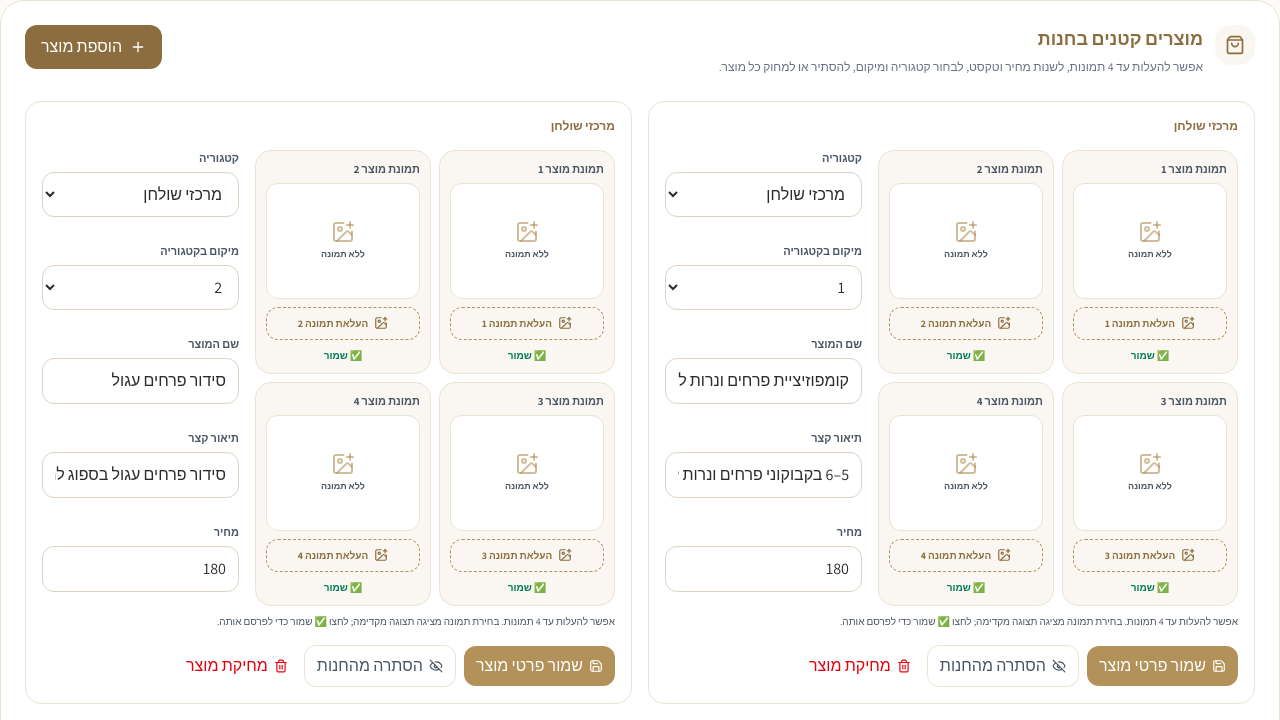
Test: ProductManager › validates required fields and supports cancelling a new product
Click the button "הוספת מוצר" at (94, 47), box [25,25,162,69]
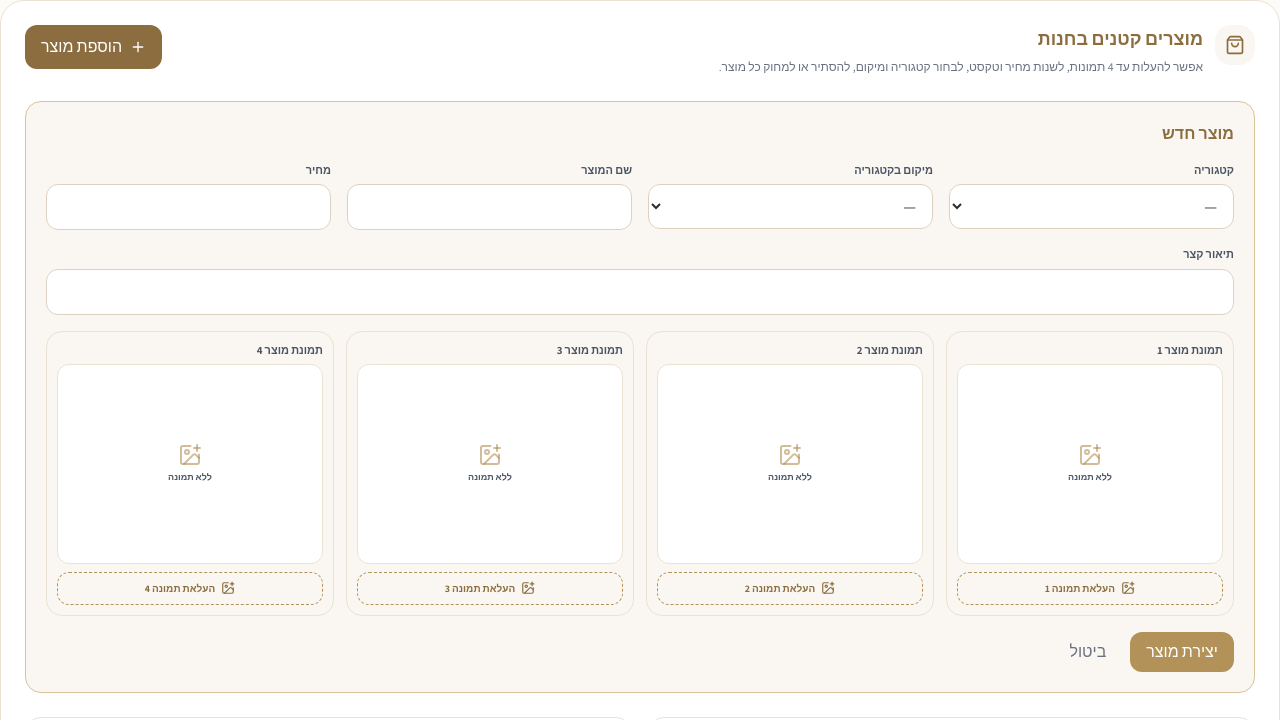
Click the button "יצירת מוצר" at (1182, 652), box [1130,632,1234,672]
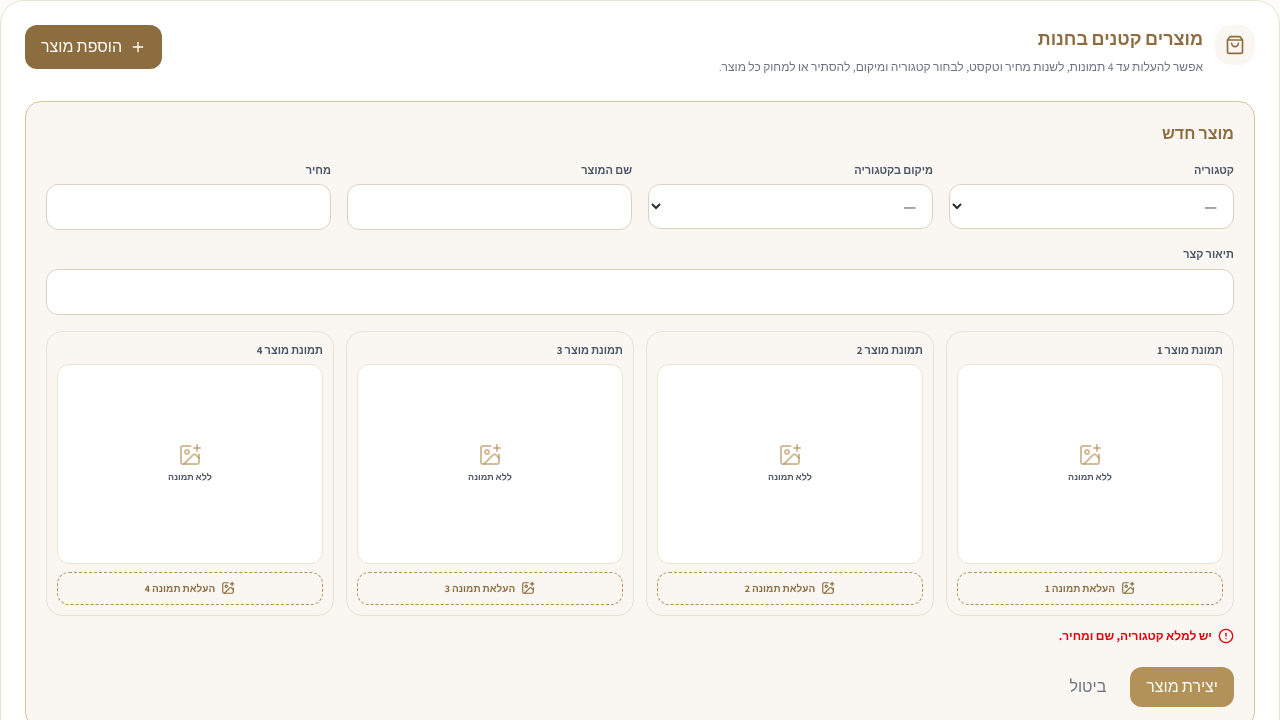
Check: the message reads "יש למלא קטגוריה, שם ומחיר.", box [1059,628,1212,642]
Click the button "ביטול" at (1088, 686), box [1053,666,1122,706]
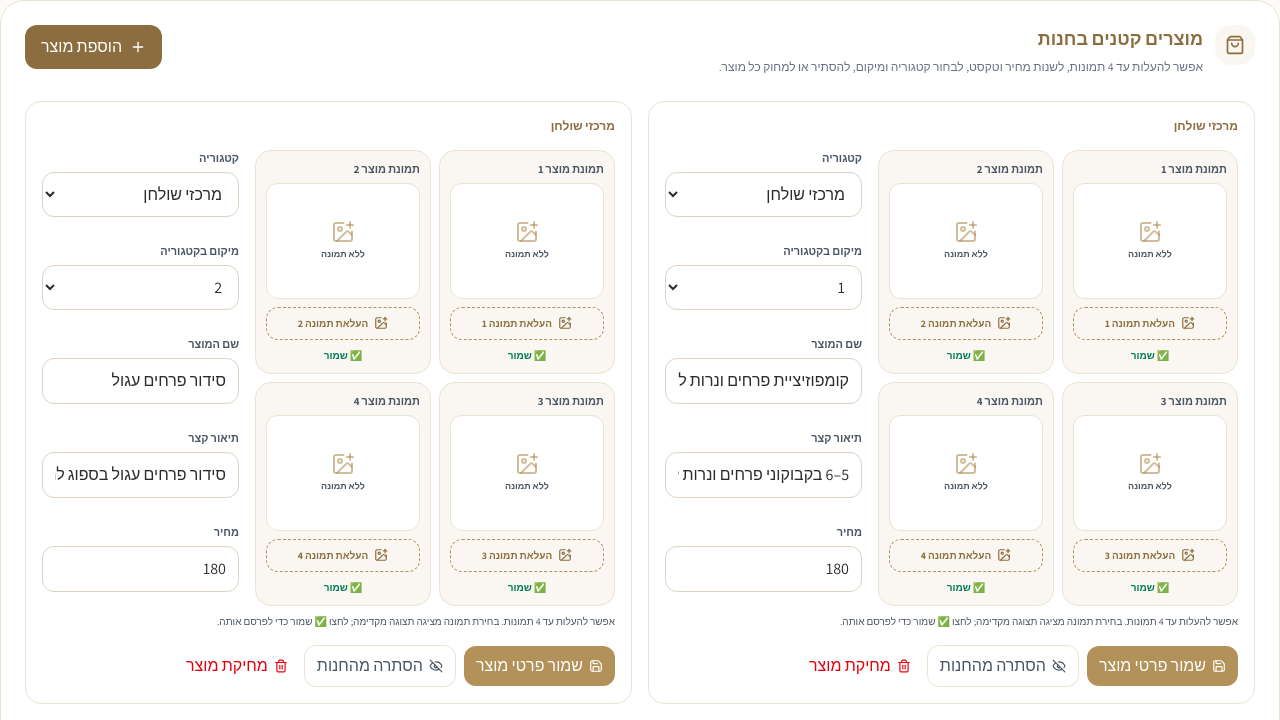
Check: the button "יצירת מוצר" is gone
